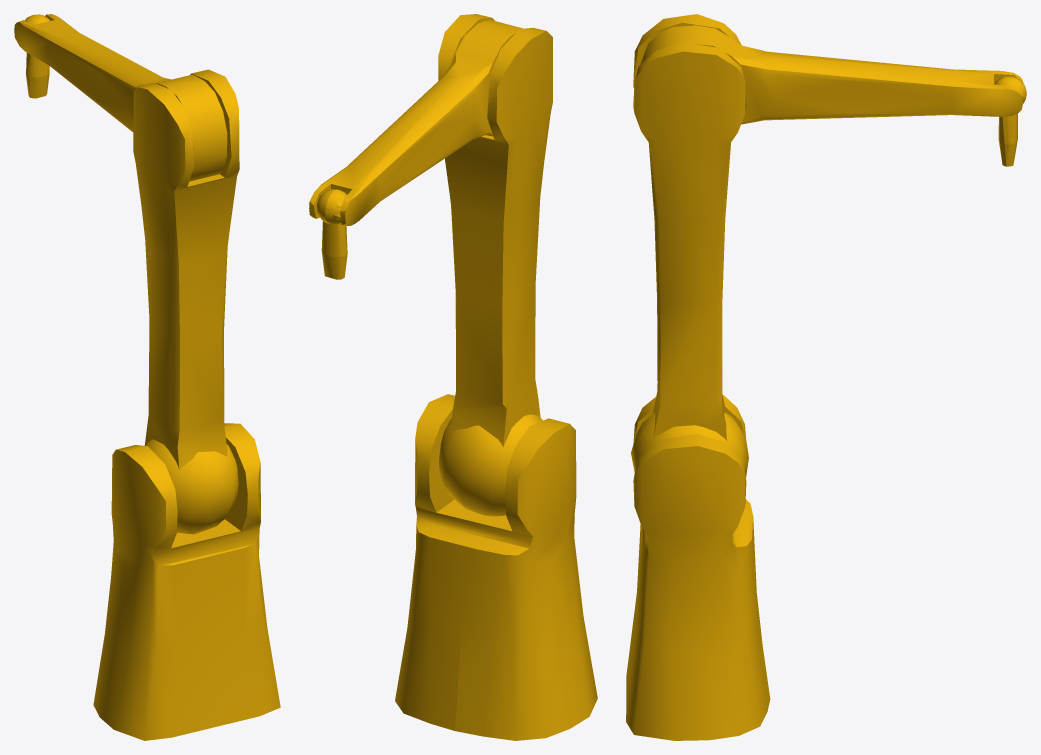
The model's file is robot arm export copy 3.fbx.
3 views of the same model, side by side, from view 1: azimuth 30°, elevation 25°; view 2: azimuth 150°, elevation 25°; view 3: azimuth 270°, elevation 25° (orthographic). The views are drawn at different scales.
Parts seen in each view (by area): view 1: Bottom arm, Middle arm, Top arm, Racket holder; view 2: Bottom arm, Middle arm, Top arm, Racket holder; view 3: Bottom arm, Middle arm, Top arm, Racket holder.
Boxes of the visible parts, left/top/right/bottom form: Bottom arm: left=93, top=423, right=280, bottom=740; Middle arm: left=133, top=69, right=239, bottom=534; Top arm: left=14, top=14, right=227, bottom=181; Racket holder: left=25, top=14, right=49, bottom=98; Bottom arm: left=395, top=394, right=597, bottom=740; Middle arm: left=438, top=14, right=552, bottom=516; Top arm: left=309, top=19, right=522, bottom=225; Racket holder: left=316, top=189, right=347, bottom=279; Bottom arm: left=626, top=395, right=770, bottom=740; Middle arm: left=631, top=14, right=748, bottom=476; Top arm: left=639, top=25, right=1023, bottom=124; Racket holder: left=995, top=76, right=1026, bottom=166.
Size of the model in its own units: 33.37 by 125 by 67.84.
